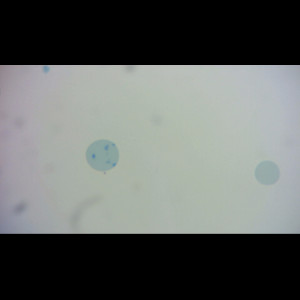aggregate reticulocyte: (85, 139, 121, 173)
erythrocyte: (254, 160, 282, 187)
